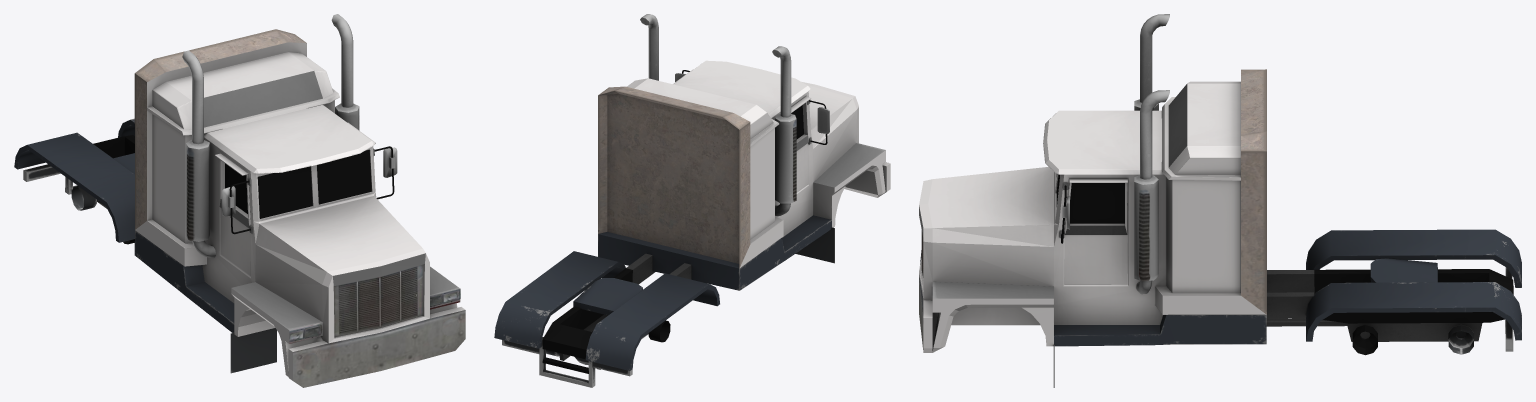
File: mytruckk.fbx
3 renders of one model, left to right at view 1: azimuth 30°, elevation 25°; view 2: azimuth 150°, elevation 25°; view 3: azimuth 270°, elevation 25°, orthographic. The views are drawn at different scales.
Visible parts, largest first — view 1: body, windows, backside; view 2: backside, body, windows; view 3: body, backside, windows.
Part boxes in pixels (<box>): body: <box>135,42,465,380</box>; windows: <box>204,71,465,387</box>; backside: <box>14,14,359,332</box>; backside: <box>494,14,831,387</box>; body: <box>626,60,890,284</box>; windows: <box>675,70,885,263</box>; body: <box>919,81,1314,387</box>; backside: <box>1054,14,1521,355</box>; windows: <box>919,84,1187,349</box>.
Bounding box in the file's own units: 345 × 526 × 988.
